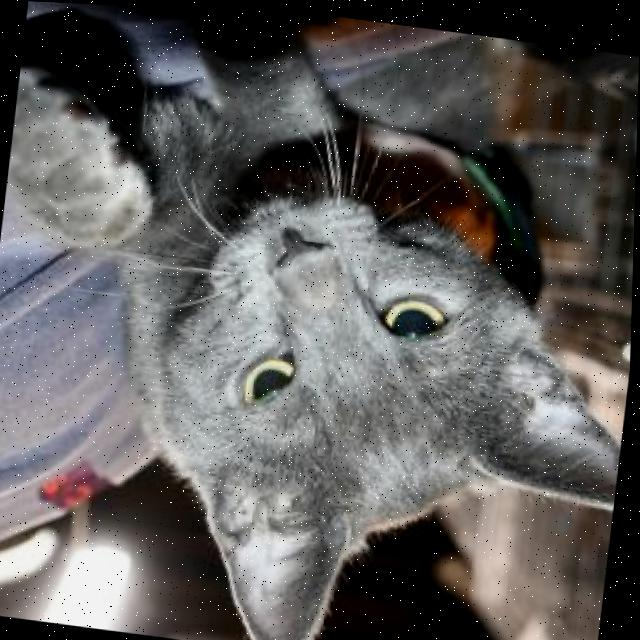Russian Blue: (0, 18, 640, 640)
